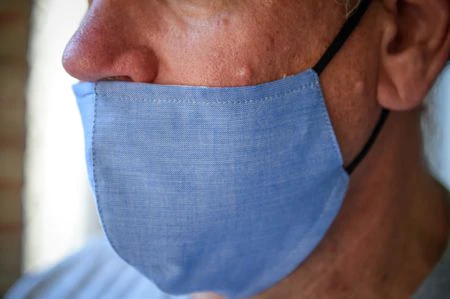mask_weared_incorrect: (57, 2, 344, 289)
